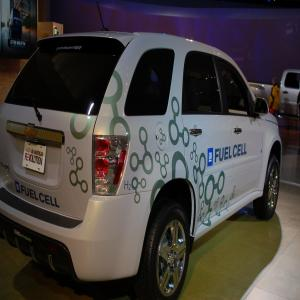Vehicle-registration-plate: (22, 141, 48, 176)
